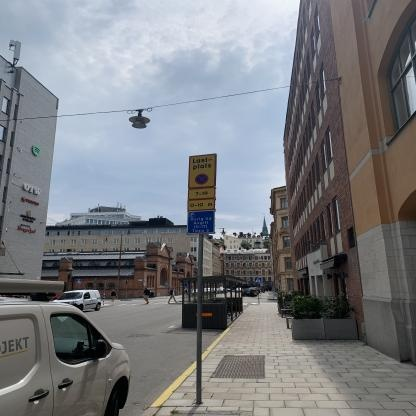lastplats: (186, 153, 218, 189)
